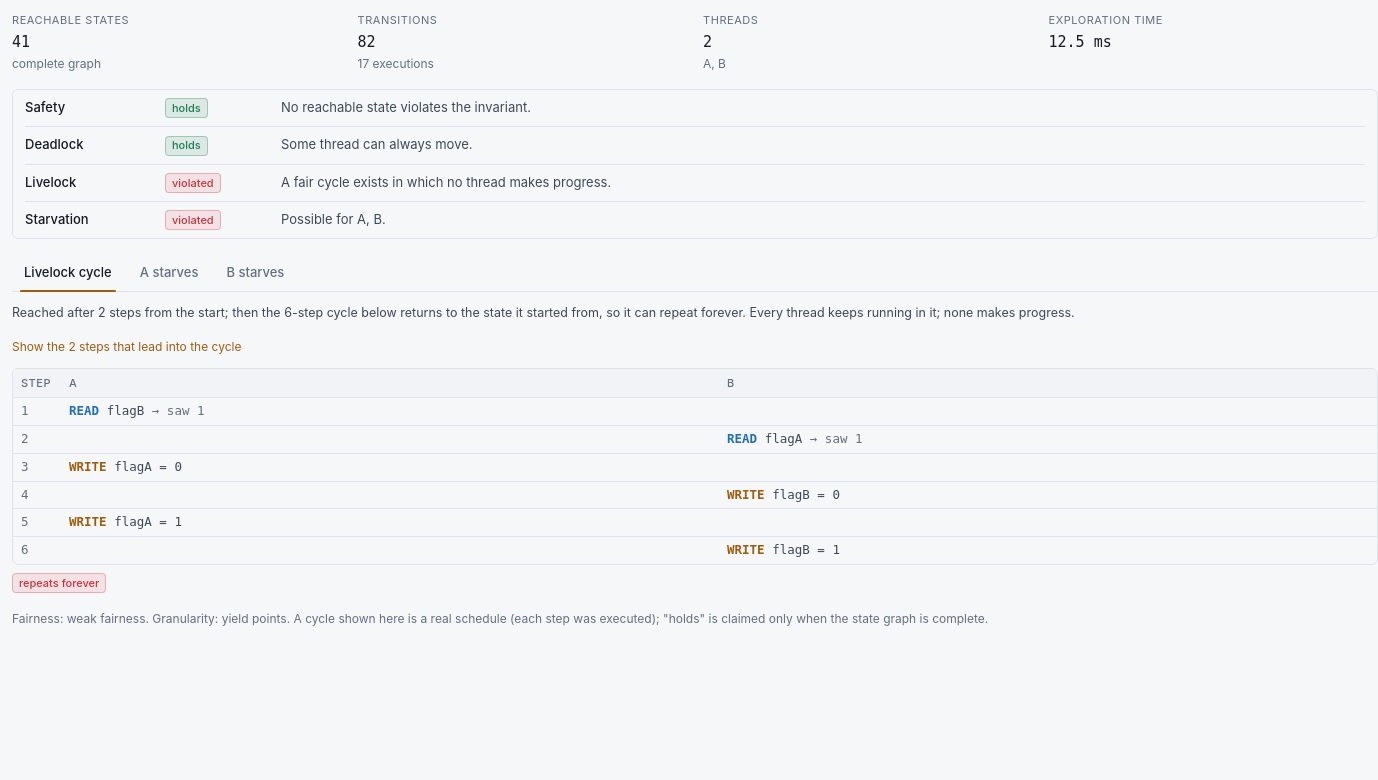
LivenessView › shows a livelock verdict with the repeating cycle, one column per thread
Check: the text "6-step cycle" is shown, box [12,305,1075,320]
Check: the text "repeats forever" is shown, box [12,573,106,593]
Step 1. Click the button "Show the 2 steps that lead into the cycle" → (127, 347), box [12,338,242,356]
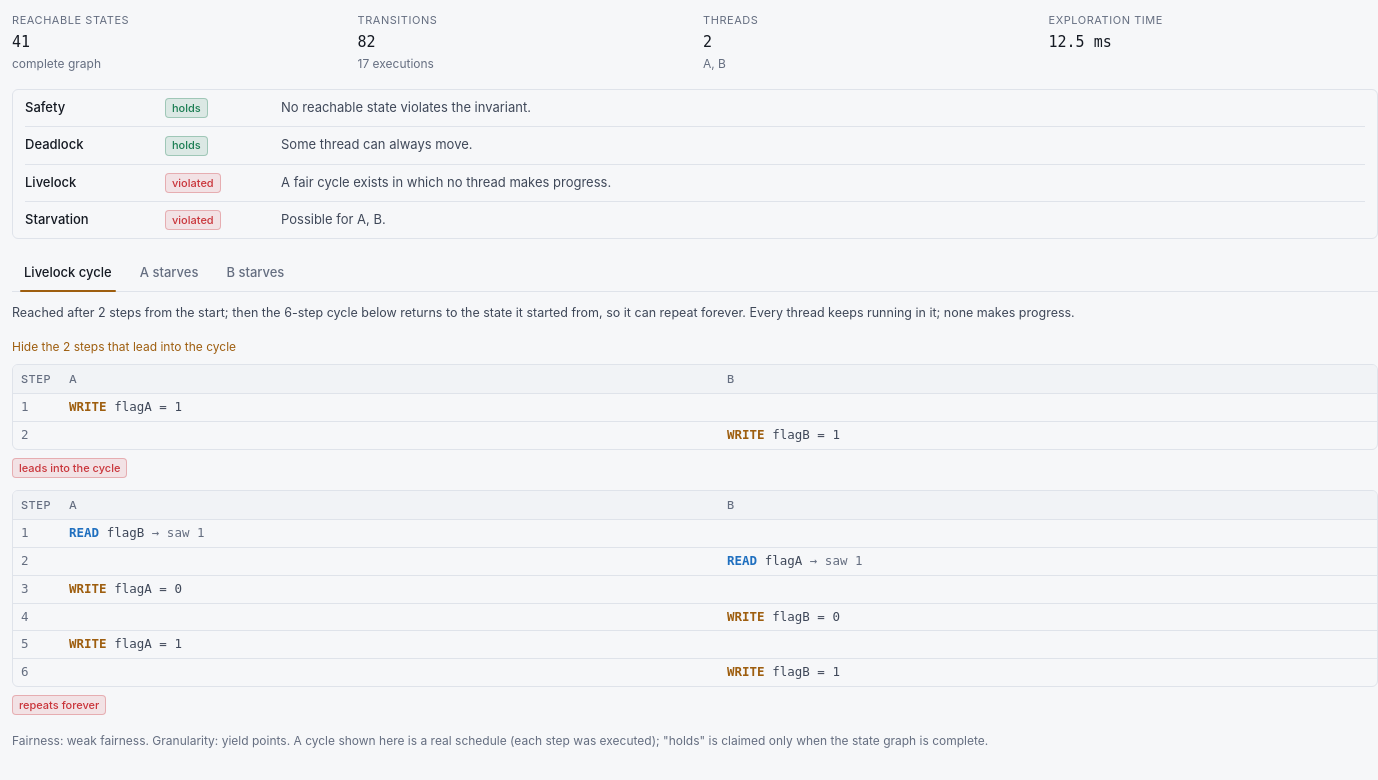
Check: the text "leads into the cycle" is shown, box [12,458,128,478]
